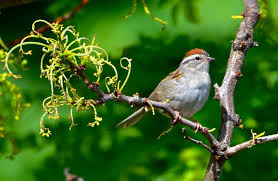hsparrow: (115, 43, 216, 145)
